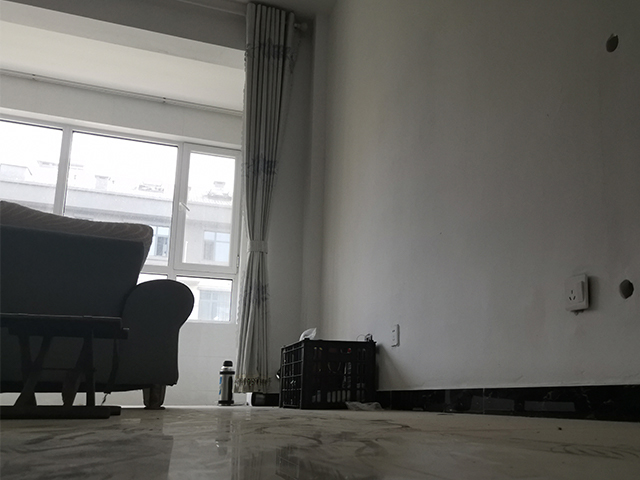curtain: (230, 1, 299, 395)
sofa: (1, 199, 197, 412)
stool: (1, 311, 131, 421)
